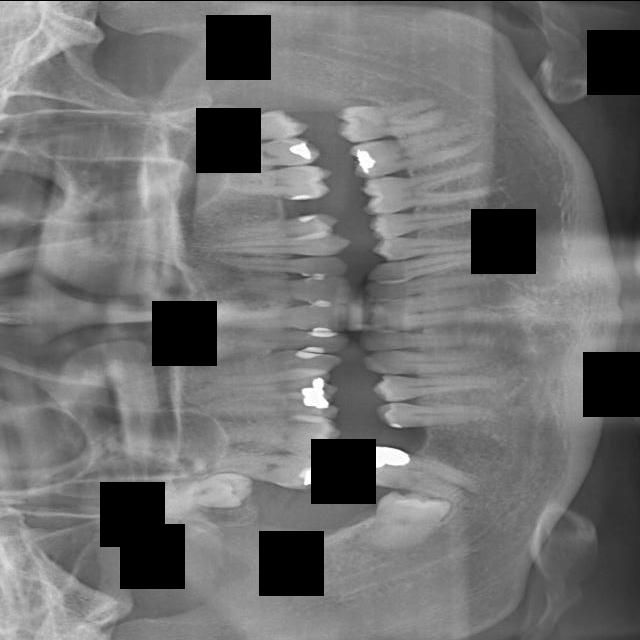3M ESPE Implant: (158, 473, 254, 508)
AGS Medikal Implant: (345, 118, 486, 181)
AMerOss Implant: (355, 159, 493, 218)
Amalgam filling: (208, 440, 332, 495)
Anthogyr Implant: (365, 201, 492, 240)
Bicon Implant: (366, 224, 501, 263)
BioHorizons Implant: (362, 247, 502, 284)
BioLife Implant: (361, 263, 493, 302)
Biomet 3i Implant: (367, 289, 494, 314)
Blue Sky Bio Implant: (369, 305, 504, 333)
Camlog Implant: (356, 325, 500, 357)
Caries: (207, 254, 353, 277)
Composite filling: (359, 349, 506, 376)
Cowellmedi Implant: (368, 374, 507, 403)
Crown: (374, 396, 502, 430)
DENTSPLY Implant: (201, 416, 343, 458)
Dentis Implant: (349, 436, 489, 517)
Dentium Implant: (364, 486, 451, 563)
Euroteknika Implant: (183, 400, 342, 419)
Filling: (182, 374, 343, 407)
Frontier Implant: (160, 344, 346, 393)
Hiossen Implant: (200, 233, 356, 261)
Implant: (208, 300, 351, 331)
Implant Direct: (201, 327, 352, 353)
Keystone Dental Implant: (212, 275, 354, 305)
MIS Implant: (202, 211, 344, 240)
Maxilla: (206, 162, 338, 209)
Megagen Implant: (197, 135, 324, 173)
Neodent Implant: (191, 104, 312, 148)
Neoss Implant: (328, 89, 450, 146)
